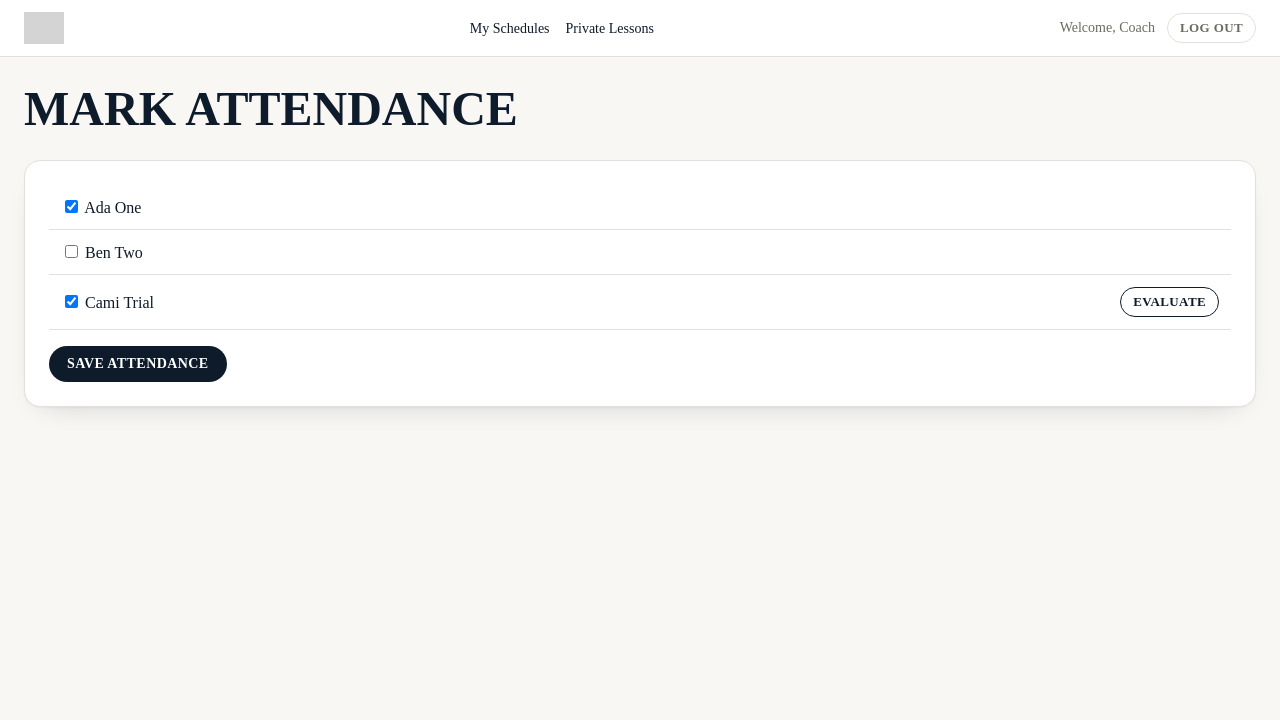
Test: AttendancePage › shows an inline error on a failed evaluation submit without crashing
This screenshot has width=1280, height=720.
Expected: the text "Ada One" is shown, top-left (61, 199), bottom-right (141, 216)
Click the button "Evaluate" at (1170, 302), box top-left (1120, 287), bottom-right (1219, 317)
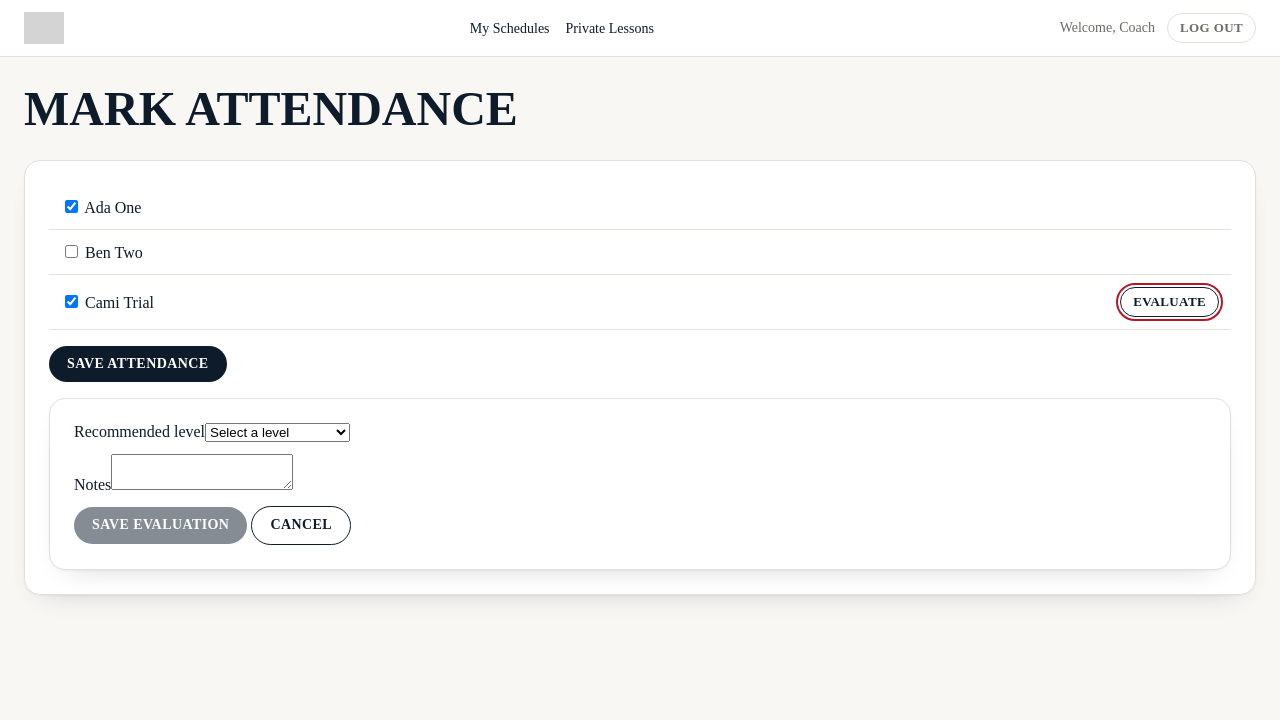
Select "Beginner Above 10Y" in the dropdown labelled "Recommended level" at (278, 433), box top-left (205, 423), bottom-right (350, 442)
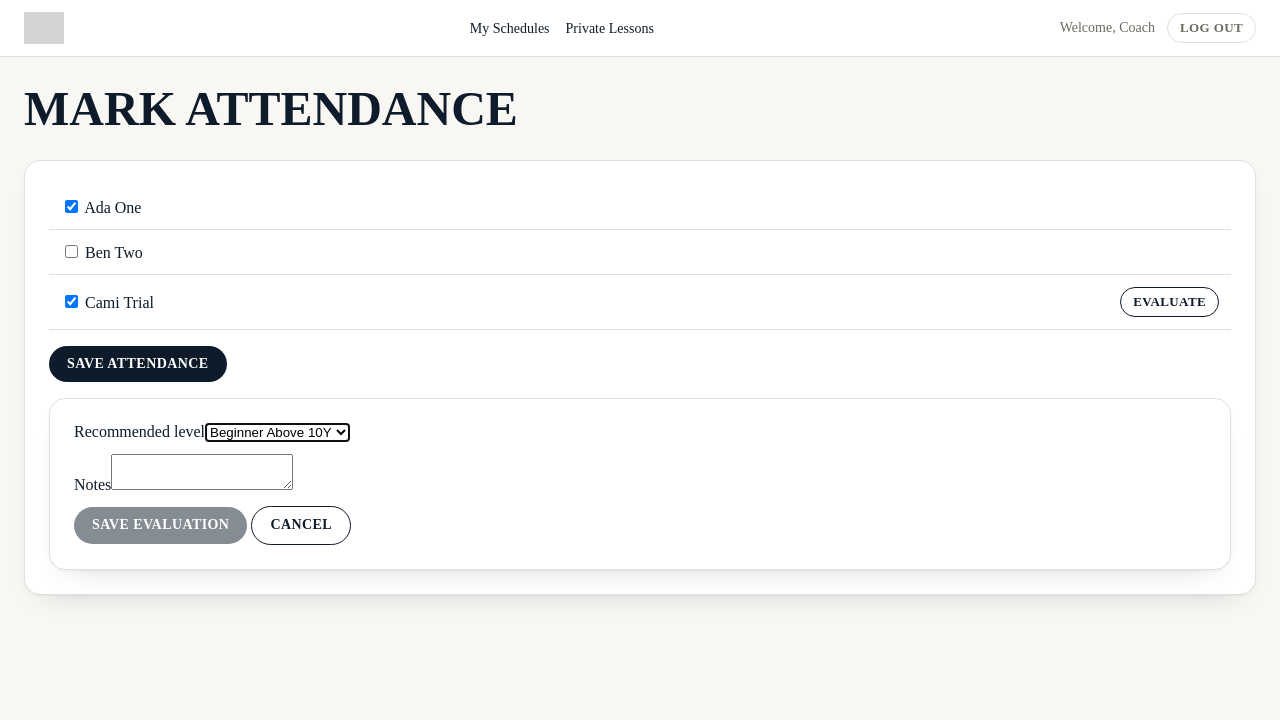
Type "Notes." into the text box named "evaluation notes" at (202, 472), box top-left (111, 454), bottom-right (293, 490)
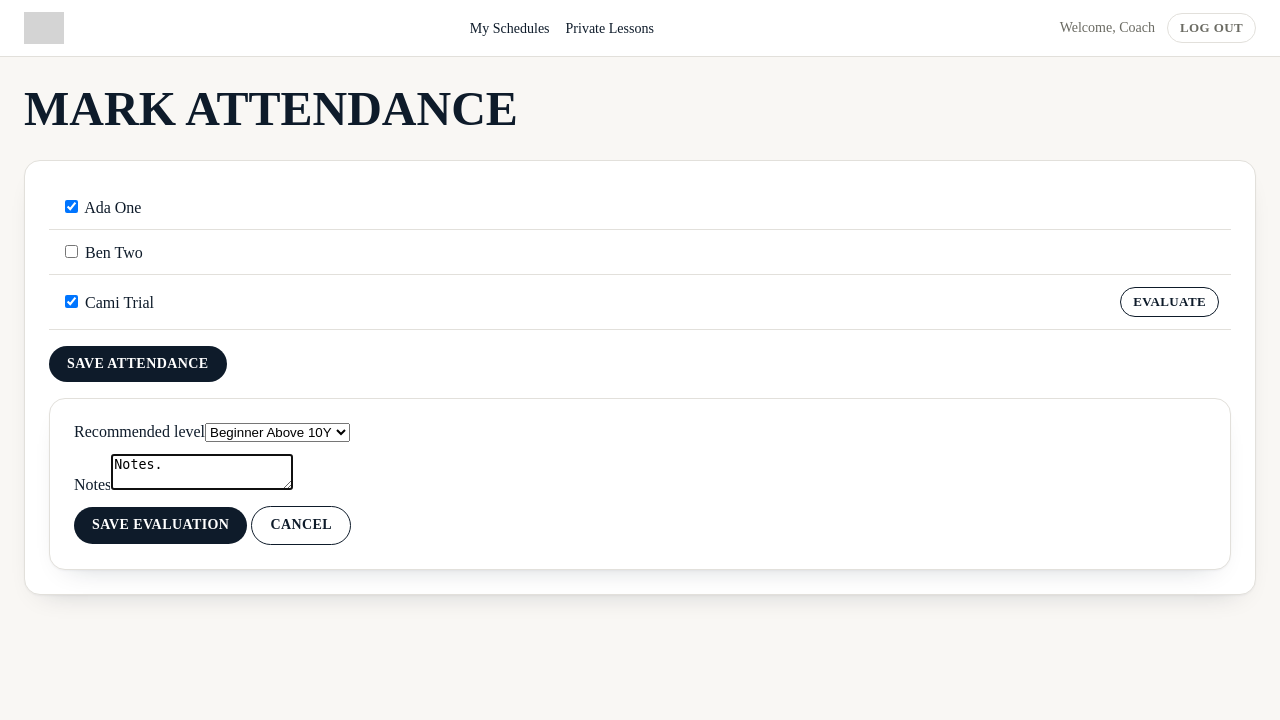
Click the button "Save Evaluation" at (161, 526), box top-left (74, 507), bottom-right (247, 544)
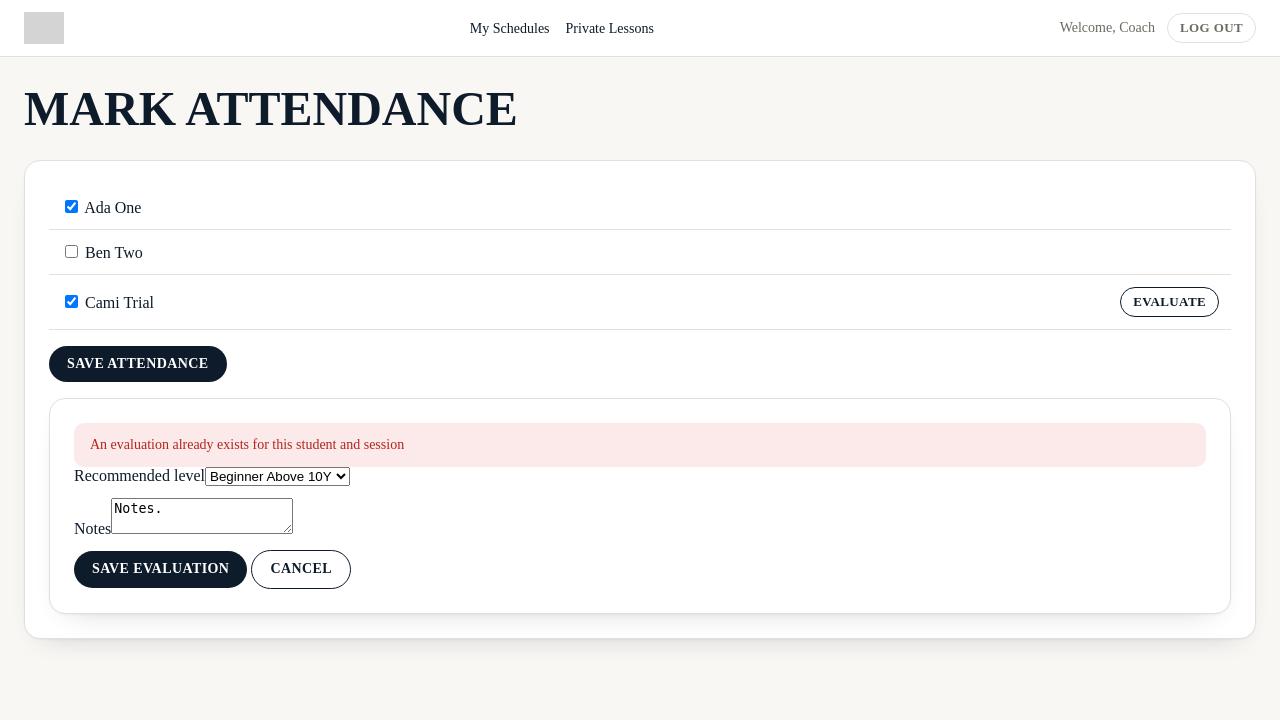
Expected: the text "An evaluation already exists for this student and session" is shown, top-left (74, 423), bottom-right (1206, 467)
